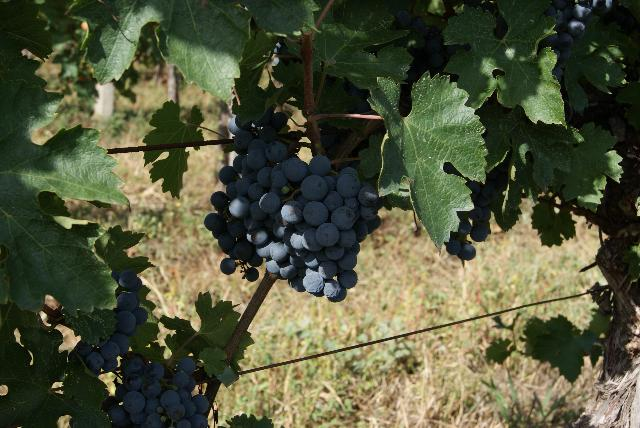grapes: (205, 112, 382, 302), (75, 269, 148, 374), (101, 358, 209, 428)
